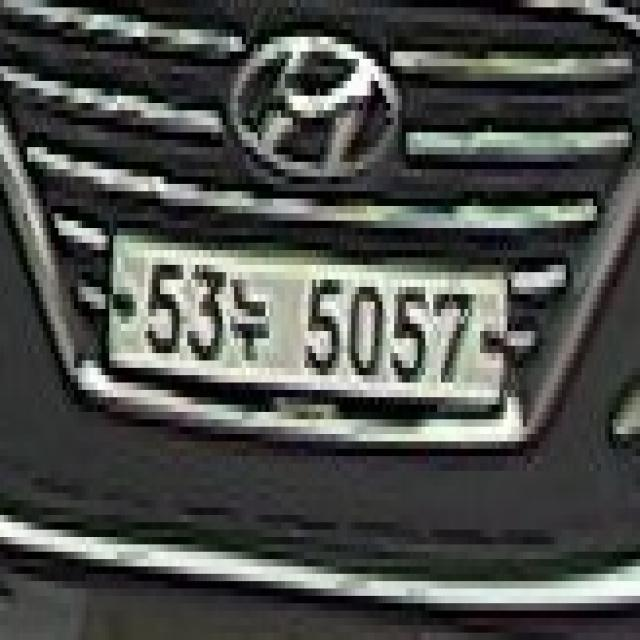0: (348, 273, 386, 391)
3: (187, 252, 225, 371)
5: (302, 266, 346, 385), (144, 251, 184, 363), (390, 279, 430, 378)
7: (431, 286, 479, 398)
license_plate: (98, 212, 520, 436)
nu: (230, 267, 273, 375)
